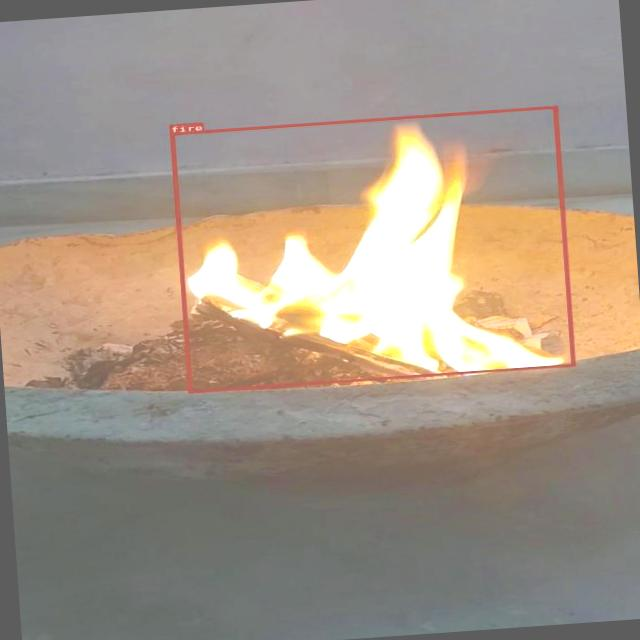fire: (169, 105, 574, 392)
